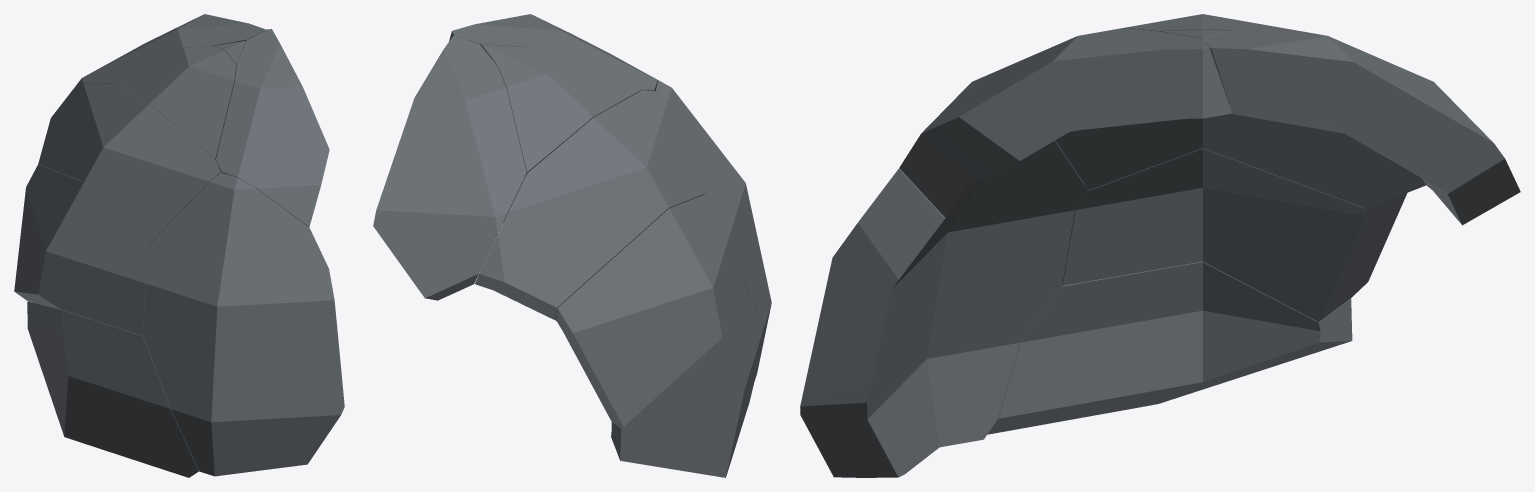
Rendered from Sphere_Fracture_11.DAE.
The picture shows the model from 3 angles, left to right: view 1: azimuth 30°, elevation 25°; view 2: azimuth 150°, elevation 25°; view 3: azimuth 270°, elevation 25°; orthographic projection. The views are drawn at different scales.
Visible parts, largest first — view 1: Sphere_Fracture_11; view 2: Sphere_Fracture_11; view 3: Sphere_Fracture_11.
Part boxes in pixels (<box>): Sphere_Fracture_11: <box>14,14,344,477</box>; Sphere_Fracture_11: <box>373,14,771,477</box>; Sphere_Fracture_11: <box>800,14,1520,477</box>.
Bounding box in the file's own units: 1.09 × 1.47 × 1.85.
Materials: 2 (2 with a texture image).
